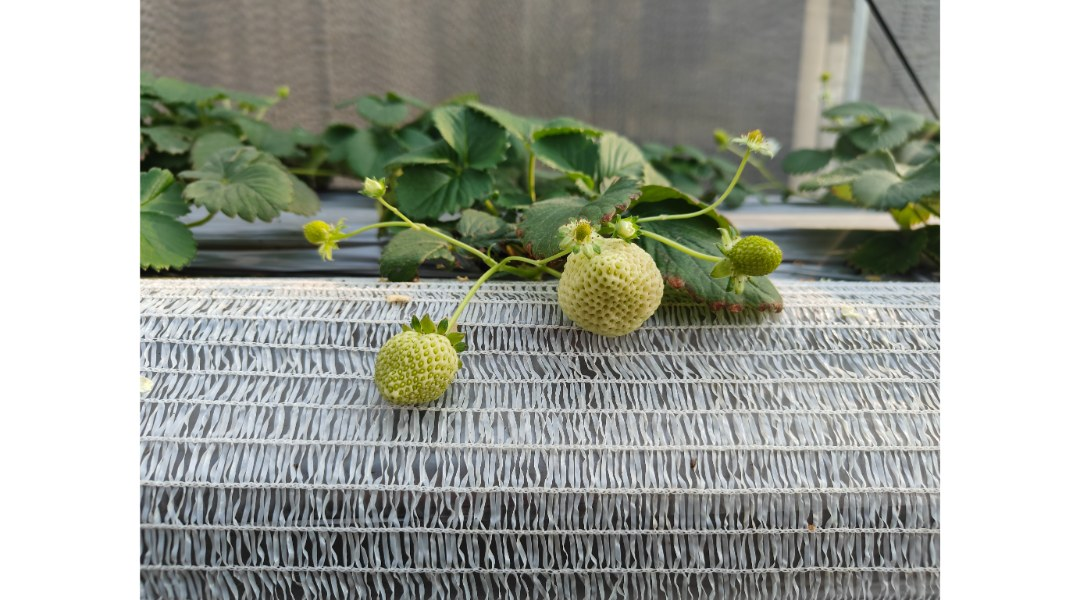berry: (545, 227, 674, 345), (362, 314, 471, 412), (713, 224, 794, 286), (294, 210, 339, 266), (727, 125, 786, 158), (362, 174, 399, 211)
strain: (705, 148, 751, 210), (646, 231, 724, 265), (442, 276, 492, 327), (328, 216, 404, 243), (633, 198, 717, 221), (429, 234, 478, 256)
